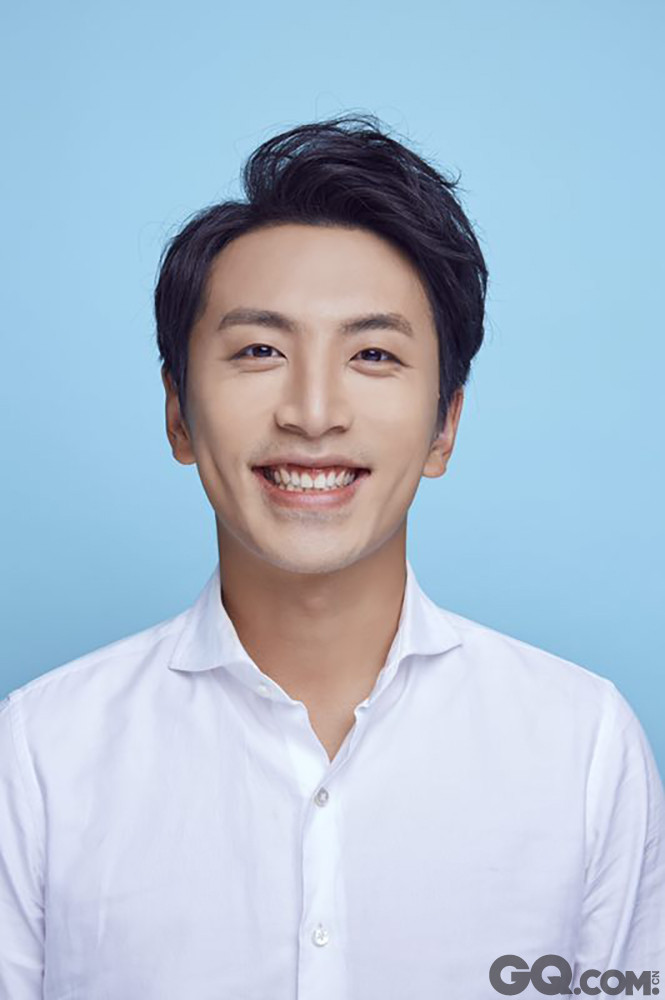unmask: (200, 247, 438, 559)
